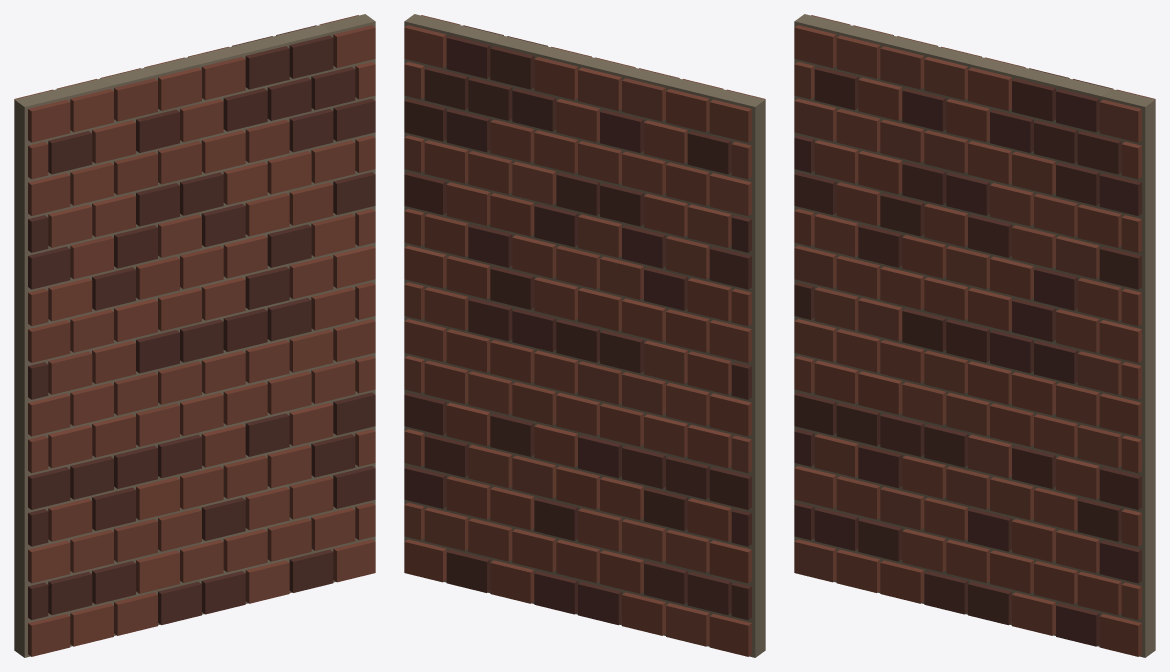
Rendered from piece_wall_brick.fbx.
3 renders of one model, left to right at view 1: azimuth 30°, elevation 25°; view 2: azimuth 150°, elevation 25°; view 3: azimuth 330°, elevation 25°, orthographic.
Visible parts, largest first — view 1: piece_wall_brick; view 2: piece_wall_brick; view 3: piece_wall_brick.
Boxes of the visible parts, box(x1,y1,x2,y2) form: piece_wall_brick: box(14, 14, 375, 657); piece_wall_brick: box(404, 14, 765, 657); piece_wall_brick: box(794, 14, 1155, 657).
Size of the model in its own units: 2 by 3 by 0.17.
